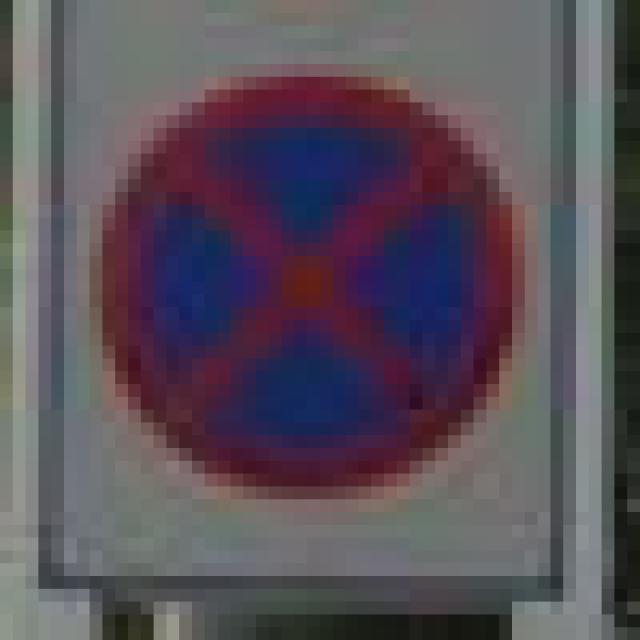no_parking: (90, 64, 512, 486)
